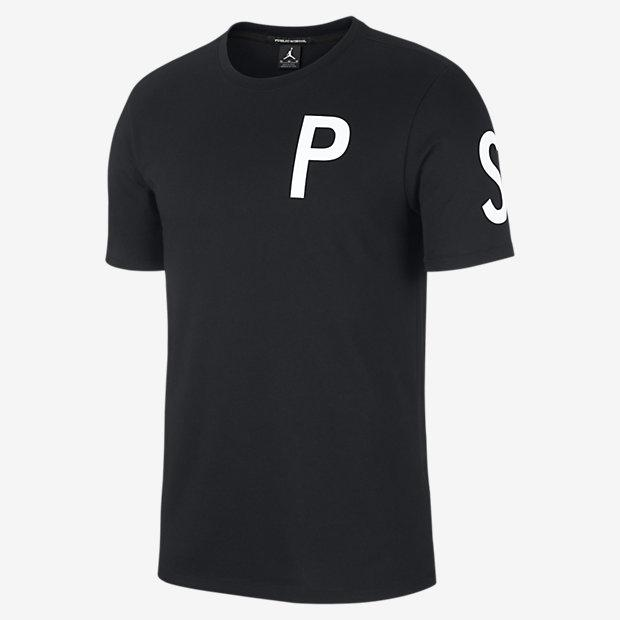teeshirt: (88, 11, 538, 612)
